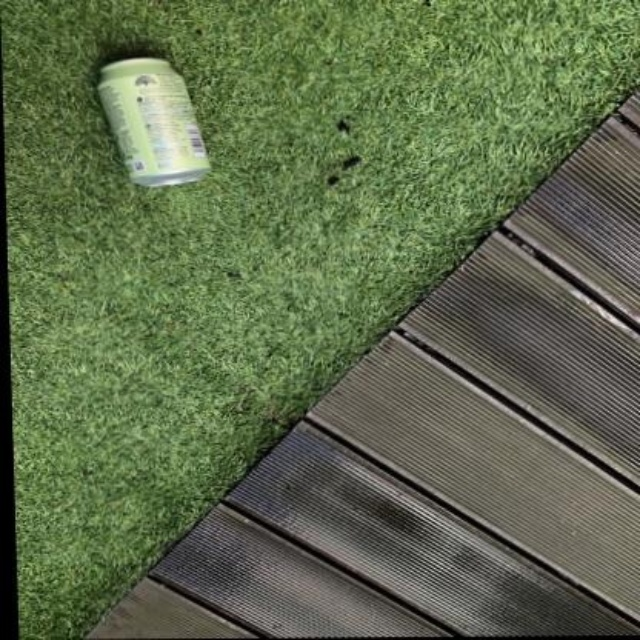trash: (98, 58, 209, 185)
